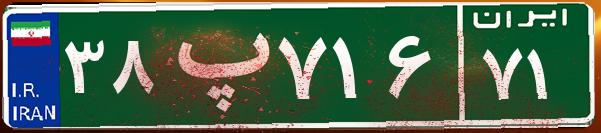1: (330, 28, 385, 110), (525, 38, 570, 115)
3: (57, 26, 110, 107)
6: (385, 28, 445, 110)
7: (273, 28, 330, 110), (475, 38, 525, 113)
8: (110, 28, 158, 105)
پ: (158, 15, 273, 115)
